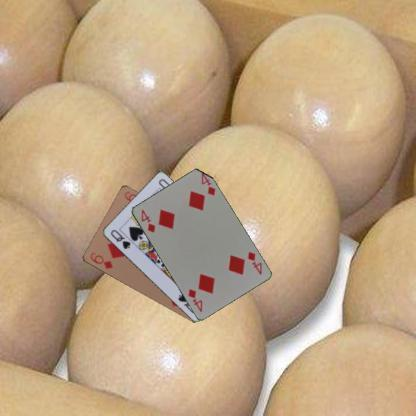4d: (138, 206, 157, 234), (245, 249, 263, 276)
6d: (87, 250, 114, 271)
Qs: (108, 227, 132, 250)
